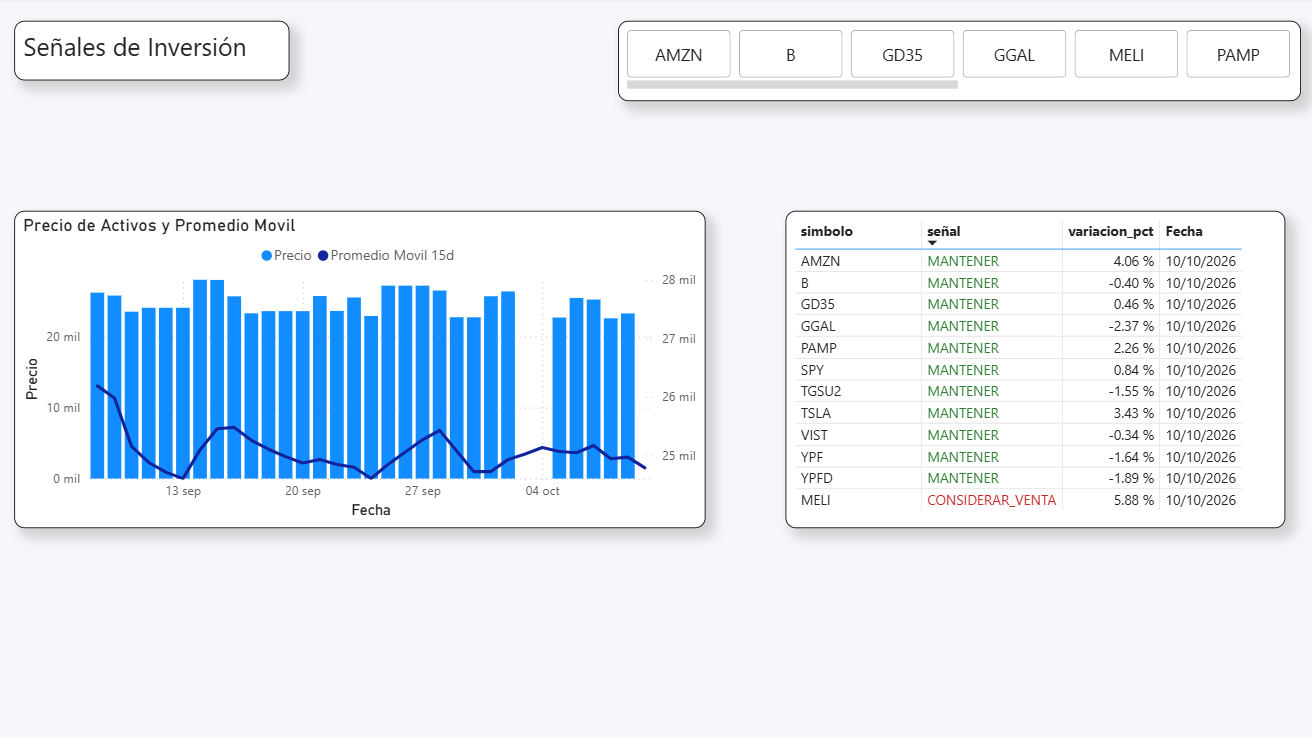

What the dashboard file says about the page in this screenshot:
{"tool":"powerbi","page":{"name":"Señales de Inversión","canvas":[1280,720],"ordinal":2},"visuals":[{"type":"lineClusteredColumnComboChart","title":"Precio de Activos y Promedio Movil","fields":{"Y":["Medidas_Rendimiento.Precio"],"Y2":["Medidas_Rendimiento.Promedio Movil 15d"],"Category":["Calendario.Fecha"]},"box":[25.5,206.8,667.5,306.2],"z":0},{"type":"tableEx","fields":{"Values":["Señales_portafolio.simbolo","Señales_portafolio.señal","Señales_portafolio.variacion_pct","Calendario.Fecha"]},"box":[769.6,206.8,482.2,306.2],"z":1000},{"type":"advancedSlicerVisual","fields":{"Values":["Mi_portafolio_historico.simbolo"]},"box":[608.4,22.8,659.5,77.9],"z":2000},{"type":"textbox","box":[25.5,22.8,265.9,57.8],"z":2001}]}

Visuals, with their boxes in screenshot pixels (x1, y1, x2, y2), scaled from the page's 1280x720 canvas onto the 1312x738 screenshot:
"Precio de Activos y Promedio Movil" lineClusteredColumnComboChart: <bbox>26, 212, 710, 526</bbox>
tableEx - Señales_portafolio.simbolo x Señales_portafolio.señal: <bbox>789, 212, 1283, 526</bbox>
advancedSlicerVisual - Mi_portafolio_historico.simbolo: <bbox>624, 23, 1300, 103</bbox>
textbox: <bbox>26, 23, 299, 83</bbox>
